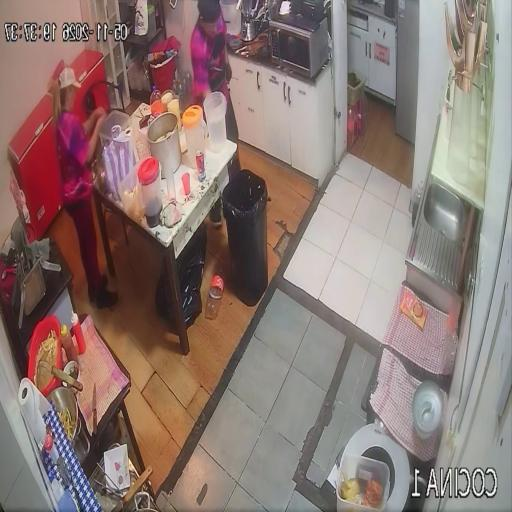Basurero: (222, 169, 268, 306)
Cuchillo1: (91, 383, 97, 434)
Envase Ketchup: (71, 313, 86, 354)
Envase Llajua: (61, 326, 78, 362)
Jarra2: (182, 105, 207, 168)
Jarra3: (203, 92, 227, 151)
Microondas: (270, 15, 329, 77)
Persona1: (190, 0, 238, 141), (228, 149, 241, 181), (210, 201, 221, 226)
Persona2: (54, 68, 117, 307)
Tapa de olla: (412, 381, 444, 439)
Taper: (336, 450, 391, 512)
Taper2: (100, 110, 131, 146)
Taper4: (119, 168, 144, 222)
Vaso1: (182, 173, 190, 196)
olla1: (147, 112, 182, 178)
